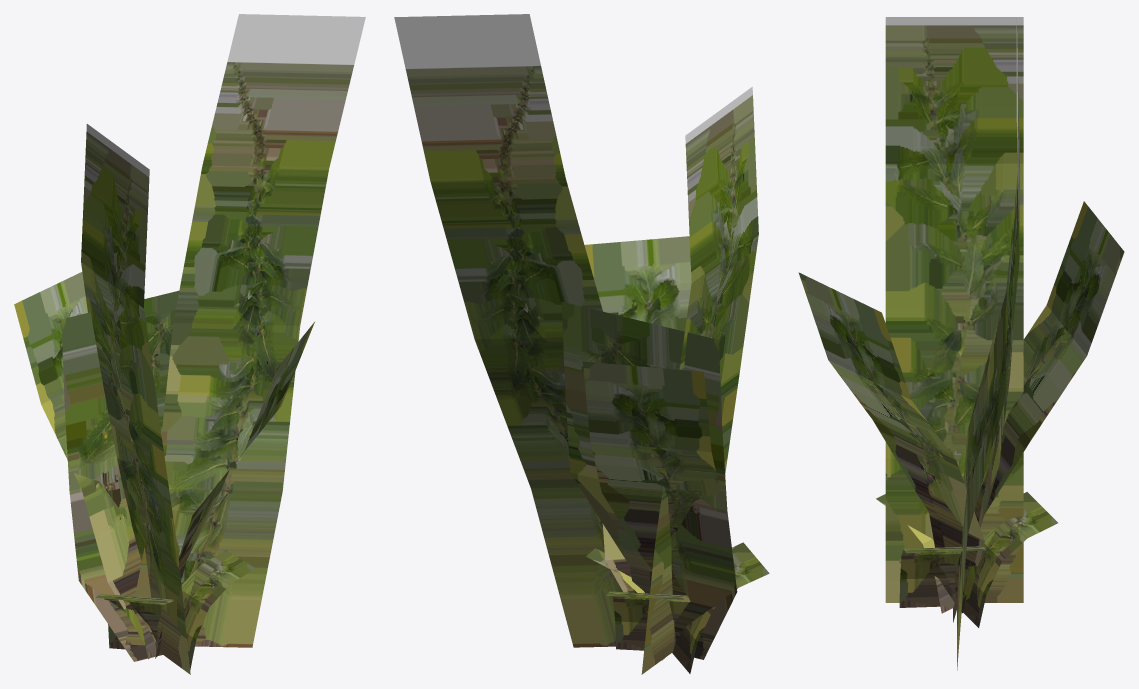
Rendered from Weed_1.fbx.
The picture shows the model from 3 angles, left to right: view 1: azimuth 30°, elevation 25°; view 2: azimuth 150°, elevation 25°; view 3: azimuth 270°, elevation 25°; orthographic projection. The views are drawn at different scales.
Parts seen in each view (by area): view 1: Plane; view 2: Plane; view 3: Plane.
Boxes of the visible parts, <box> form: Plane: <box>14,14,365,674</box>; Plane: <box>394,14,769,674</box>; Plane: <box>798,17,1124,670</box>.
Size of the model in its own units: 91.18 by 166 by 73.25.
